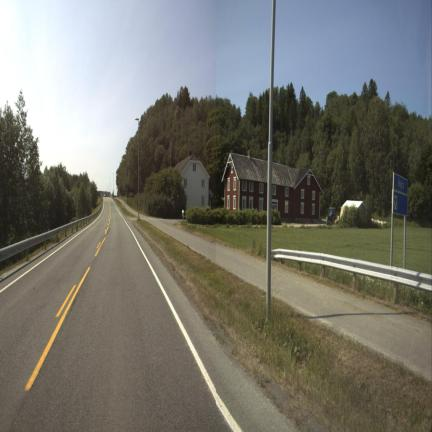Road: (0, 199, 294, 430)
